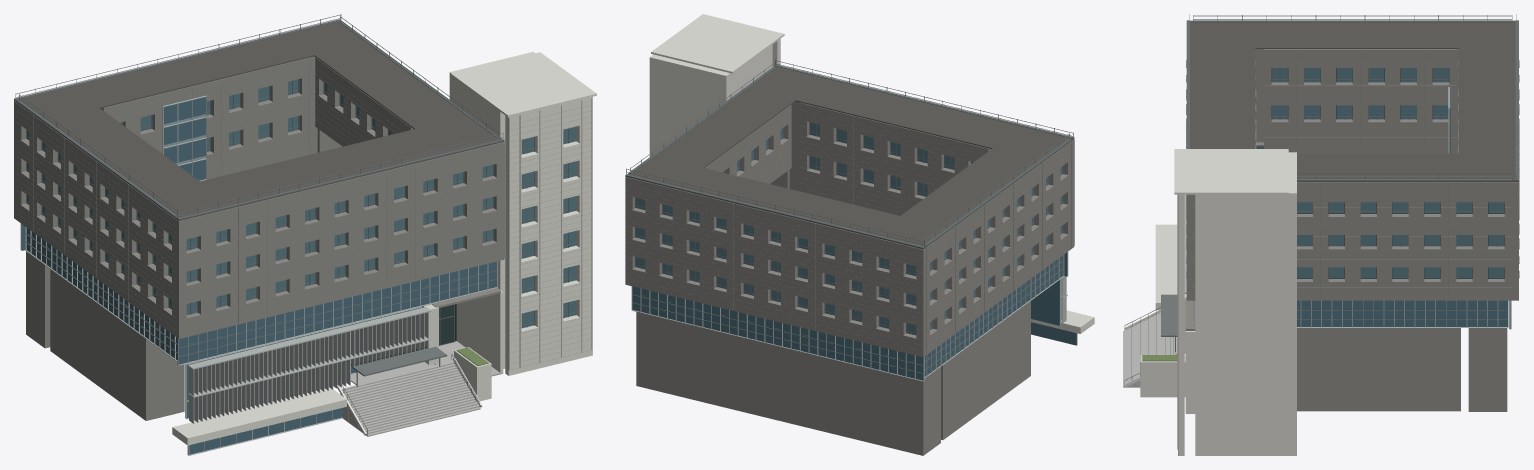
3 renders of one model, left to right at view 1: azimuth 30°, elevation 25°; view 2: azimuth 150°, elevation 25°; view 3: azimuth 270°, elevation 25°, orthographic. The views are drawn at different scales.
Parts seen in each view (by area): view 1: continuous-wing-roof-caps__roof, front-horizontal-stone__graystone, tower-front-horizontal-stone__towerstone, estimated-lower-support-base__graystone, west-horizontal-stone__graystone, two-storey-vertical-fins__fins, front-stone-piers__graystone, court-rear-horizontal-stone__graystone, front-single-glass-level__blueglass, tower-front-stone-piers__towerstone, broad-main-stair__concrete, west-stone-piers__graystone (+39 smaller); view 2: estimated-lower-support-base__graystone, continuous-wing-roof-caps__roof, rear-estimated-horizontal-stone__graystone, west-horizontal-stone__graystone, court-front-estimated-horizontal-stone__graystone, rear-estimated-stone-piers__graystone, rear-estimated-single-glass-level__blueglass, tower-recessed-core__towerstone, west-stone-piers__graystone, tower-thin-crown__towerstone, rear-estimated-glass__reflectglass, court-front-estimated-stone-piers__graystone (+26 smaller); view 3: continuous-wing-roof-caps__roof, tower-recessed-core__towerstone, estimated-lower-support-base__graystone, east-estimated-horizontal-stone__graystone, court-west-horizontal-stone__graystone, east-estimated-single-glass-level__blueglass, tower-thin-crown__towerstone, east-estimated-stone-piers__graystone, east-estimated-glass__reflectglass, court-west-stone-piers__graystone, court-west-glass__reflectglass, broad-main-stair__concrete (+25 smaller).
Boxes of the visible parts, bbox=[...] form: continuous-wing-roof-caps__roof: bbox=[14, 21, 504, 220]; front-horizontal-stone__graystone: bbox=[175, 142, 504, 337]; tower-front-horizontal-stone__towerstone: bbox=[505, 97, 592, 375]; estimated-lower-support-base__graystone: bbox=[26, 251, 184, 420]; west-horizontal-stone__graystone: bbox=[17, 103, 175, 334]; two-storey-vertical-fins__fins: bbox=[189, 312, 428, 423]; front-stone-piers__graystone: bbox=[175, 162, 504, 320]; court-rear-horizontal-stone__graystone: bbox=[101, 57, 309, 179]; front-single-glass-level__blueglass: bbox=[177, 261, 496, 364]; tower-front-stone-piers__towerstone: bbox=[505, 123, 591, 334]; broad-main-stair__concrete: bbox=[340, 361, 480, 436]; west-stone-piers__graystone: bbox=[17, 123, 175, 317]; estimated-lower-support-base__graystone: bbox=[636, 301, 1030, 455]; continuous-wing-roof-caps__roof: bbox=[625, 66, 1074, 249]; rear-estimated-horizontal-stone__graystone: bbox=[625, 177, 926, 355]; west-horizontal-stone__graystone: bbox=[926, 141, 1071, 353]; court-front-estimated-horizontal-stone__graystone: bbox=[800, 102, 991, 215]; rear-estimated-stone-piers__graystone: bbox=[625, 195, 926, 340]; rear-estimated-single-glass-level__blueglass: bbox=[632, 286, 923, 380]; tower-recessed-core__towerstone: bbox=[649, 44, 772, 156]; west-stone-piers__graystone: bbox=[926, 160, 1071, 337]; tower-thin-crown__towerstone: bbox=[651, 14, 784, 73]; rear-estimated-glass__reflectglass: bbox=[635, 198, 916, 335]; court-front-estimated-stone-piers__graystone: bbox=[800, 120, 970, 196]; continuous-wing-roof-caps__roof: bbox=[1190, 20, 1518, 181]; tower-recessed-core__towerstone: bbox=[1195, 152, 1296, 455]; estimated-lower-support-base__graystone: bbox=[1297, 327, 1507, 411]; east-estimated-horizontal-stone__graystone: bbox=[1193, 182, 1512, 299]; court-west-horizontal-stone__graystone: bbox=[1264, 49, 1456, 148]; east-estimated-single-glass-level__blueglass: bbox=[1297, 300, 1507, 326]; tower-thin-crown__towerstone: bbox=[1174, 149, 1288, 194]; east-estimated-stone-piers__graystone: bbox=[1193, 202, 1512, 281]; east-estimated-glass__reflectglass: bbox=[1297, 202, 1503, 278]; court-west-stone-piers__graystone: bbox=[1264, 68, 1456, 122]; court-west-glass__reflectglass: bbox=[1272, 68, 1448, 119]; broad-main-stair__concrete: bbox=[1123, 312, 1177, 387].
Size of the model in its own units: 63 by 37.79 by 51.29.
